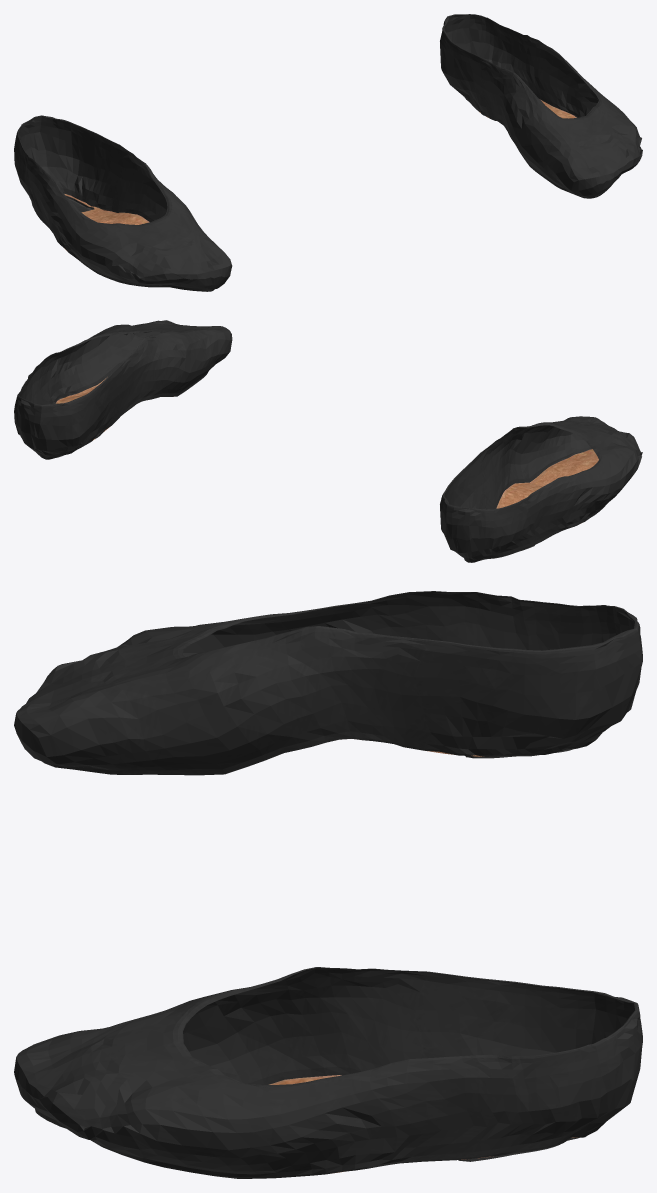
File: mhw_toigo_ballet_flats.glb
3 renders of one model, top to bottom at view 1: azimuth 30°, elevation 25°; view 2: azimuth 150°, elevation 25°; view 3: azimuth 270°, elevation 25°, orthographic. The views are drawn at different scales.
Parts seen in each view (by area): view 1: mhw_toigo_ballet_flats; view 2: mhw_toigo_ballet_flats; view 3: mhw_toigo_ballet_flats.
Boxes of the visible parts, <box> form: mhw_toigo_ballet_flats: <box>14,14,642,291</box>; mhw_toigo_ballet_flats: <box>14,320,642,562</box>; mhw_toigo_ballet_flats: <box>14,591,642,1178</box>.
Size of the model in its own units: 0.5326 by 0.0746 by 0.2839.
1 material, 1 textured.
